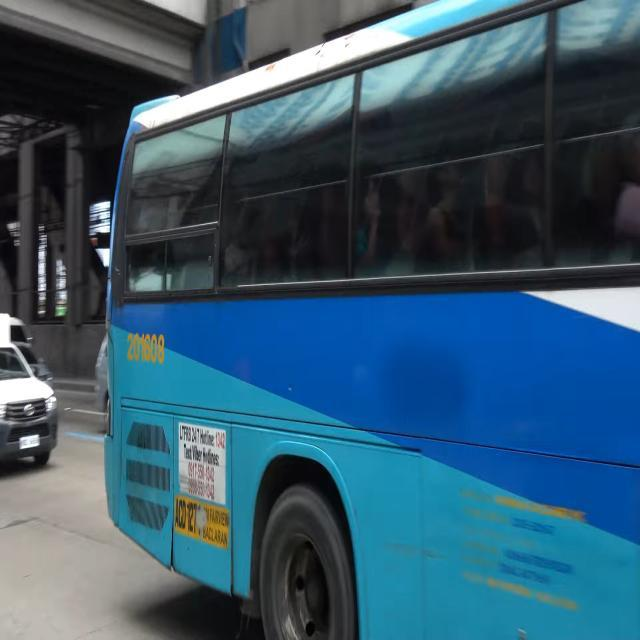bus: (102, 0, 640, 640)
car: (0, 344, 58, 468)
